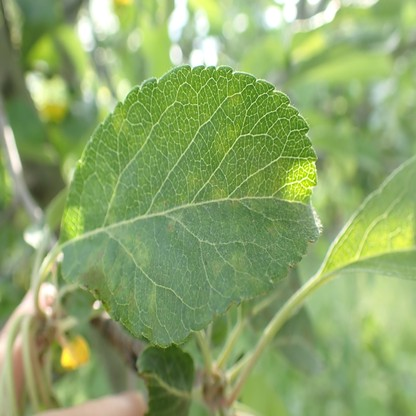scab: (78, 237, 110, 305), (123, 232, 150, 266), (113, 280, 135, 307), (230, 250, 246, 272), (147, 280, 157, 315), (167, 211, 182, 230), (211, 258, 223, 274), (266, 222, 277, 238)
